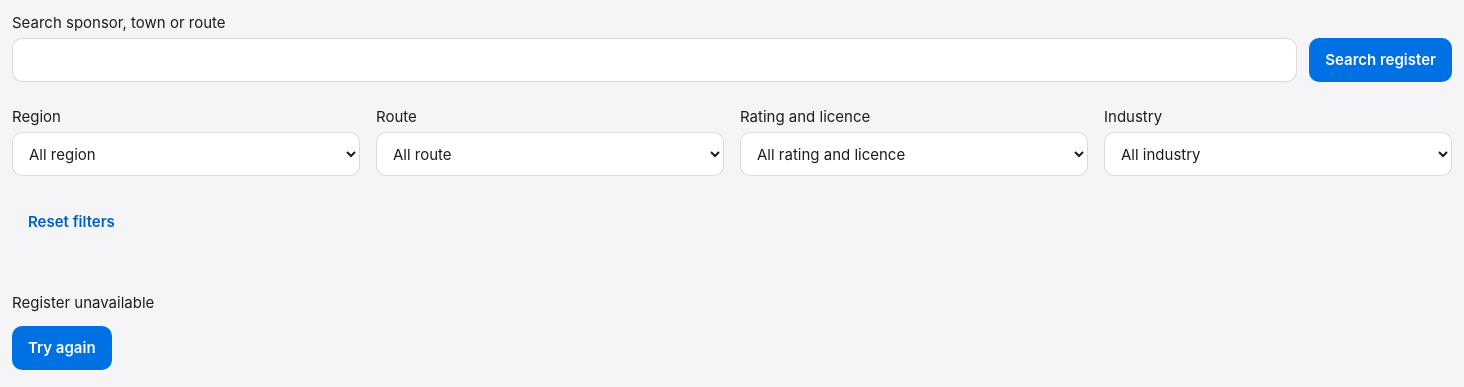
Test: RegisterExplorer › recovers from errors and explains an empty archive
The image size is (1464, 387).
Expected: the message shows "Register unavailable", [12, 293, 154, 312]
Step 1. Click the button "Try again" → (62, 348), box [12, 326, 112, 370]
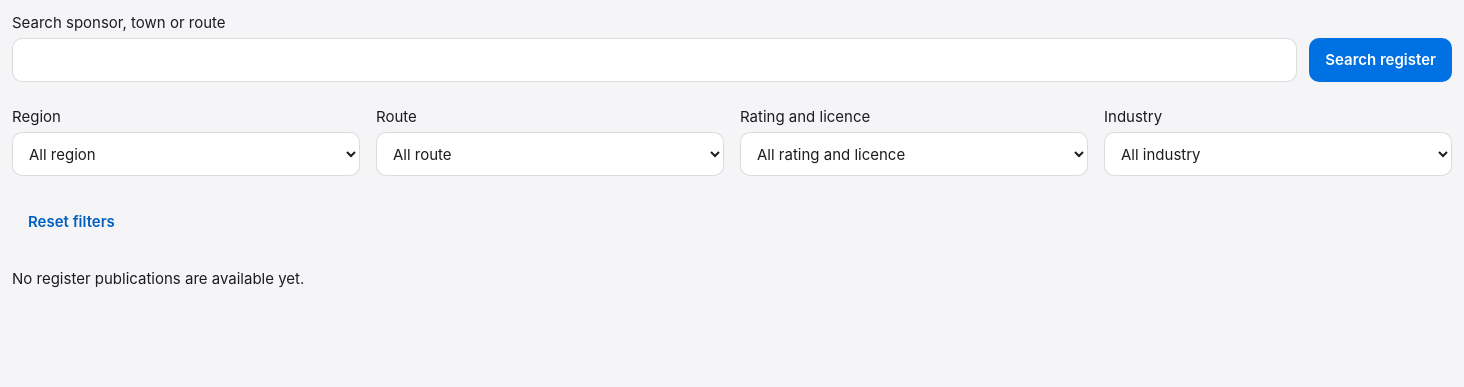
Result: the text "No register publications are available yet." is shown at [12, 269, 304, 288]
